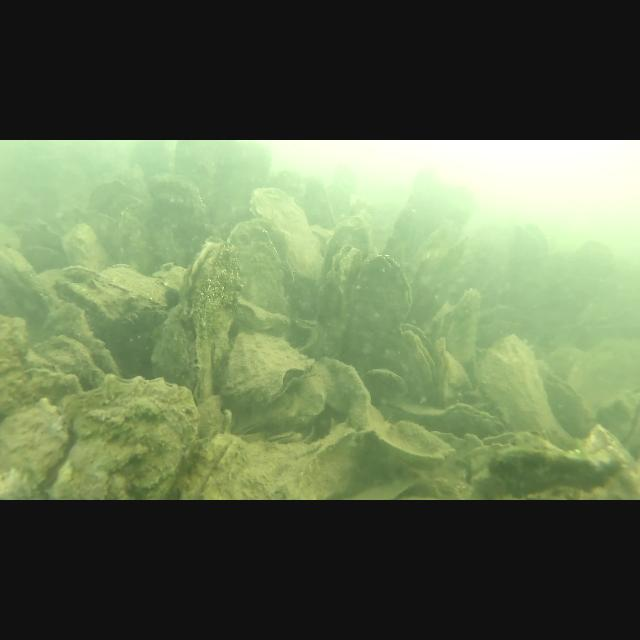Oyster-Closed: (54, 376, 196, 500), (474, 332, 574, 450), (474, 444, 634, 500), (0, 398, 68, 500), (224, 220, 292, 322), (147, 172, 217, 266), (360, 404, 458, 468), (40, 306, 120, 378), (59, 264, 158, 316), (381, 400, 504, 440), (32, 336, 104, 402), (0, 244, 52, 316), (108, 194, 156, 270), (445, 284, 481, 378), (58, 222, 114, 272), (322, 218, 376, 268), (263, 430, 305, 446)
Oyster-Open: (183, 238, 240, 400), (246, 184, 324, 280), (223, 331, 315, 411), (360, 255, 414, 368), (318, 244, 362, 362), (396, 323, 446, 402), (542, 371, 590, 434)
